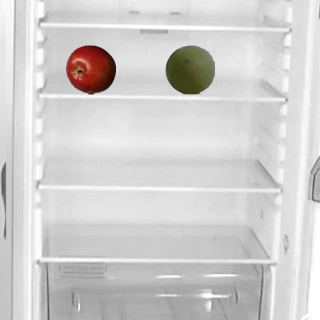Apple Braeburn: (65, 44, 115, 94)
Grape White 4: (164, 44, 214, 94)
